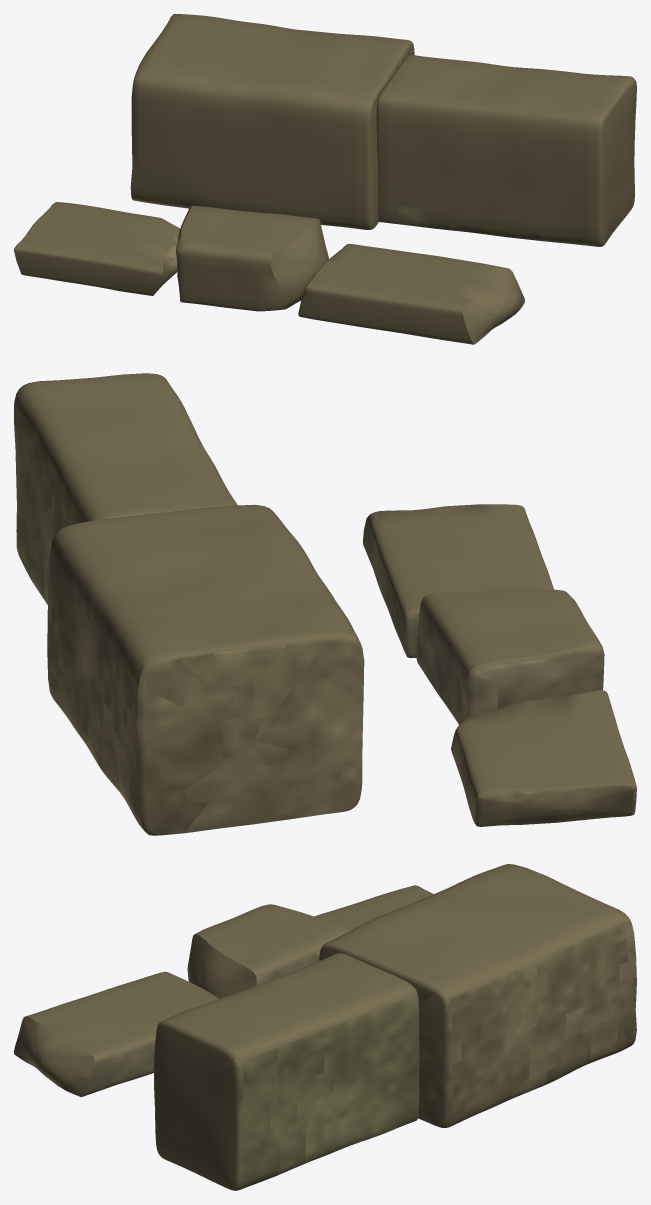
Rendered from ZonHenge11.glb.
The picture shows the model from 3 angles, top to bottom: view 1: azimuth 30°, elevation 25°; view 2: azimuth 150°, elevation 25°; view 3: azimuth 270°, elevation 25°; orthographic projection. The views are drawn at different scales.
Visible parts, largest first — view 1: ZonHenge11; view 2: ZonHenge11; view 3: ZonHenge11.
Part boxes in pixels (x1,y1,x2,y2): ZonHenge11: (14, 14, 636, 344); ZonHenge11: (14, 373, 636, 835); ZonHenge11: (14, 864, 636, 1190).
Bounding box in the file's own units: 5.15 × 1.19 × 4.82.
Materials: 2 (1 with a texture image).
